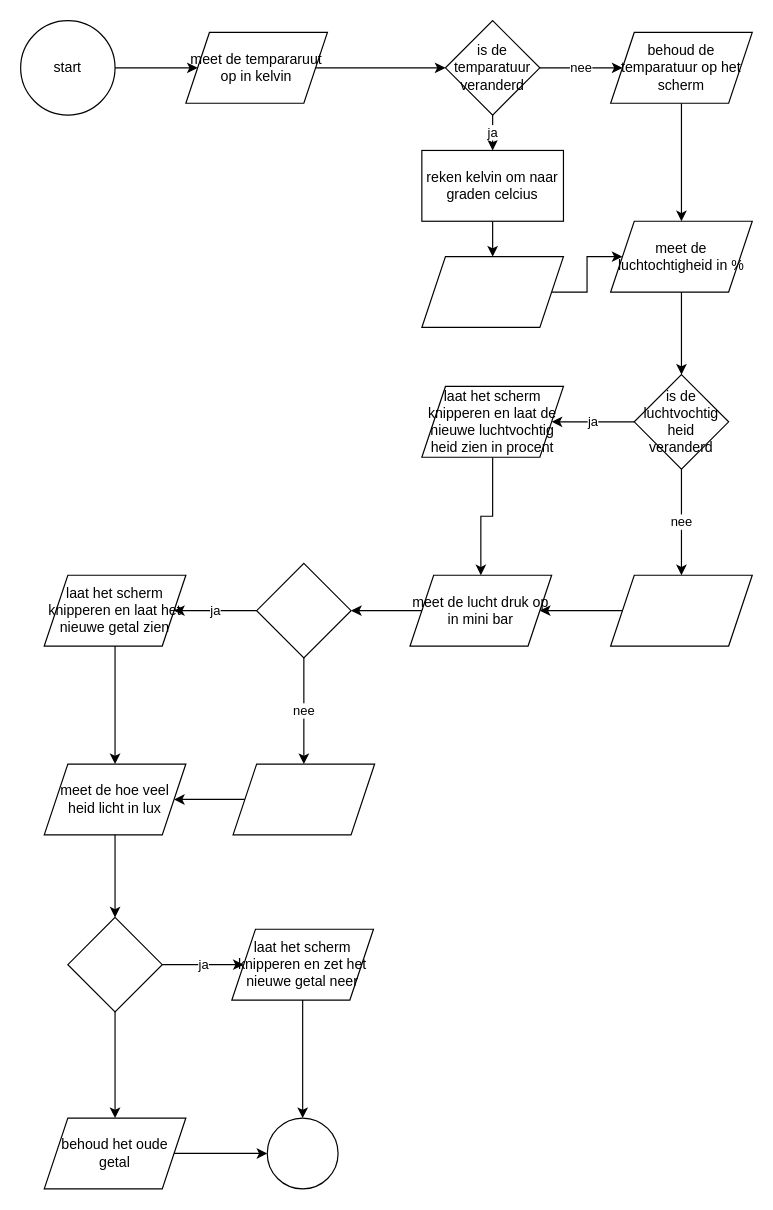
Image size: 773x1210. Some labels were removed from this diagram. Here are the shapes that lost their labels. From the top down, the centre of each, then its label:
At [492,291]: "scherm gaat knipperen en laat nieuwe temparateur zien".
At [303,610]: "is de lucht druk veranderd".
At [680,610]: "blijf het oude percentage zien op het scherm".
At [303,799]: "nee behoud de zelfde getaal wat er al staat.".
At [114,964]: "is de hoe veel heid verander".
At [302,1153]: "einde".
